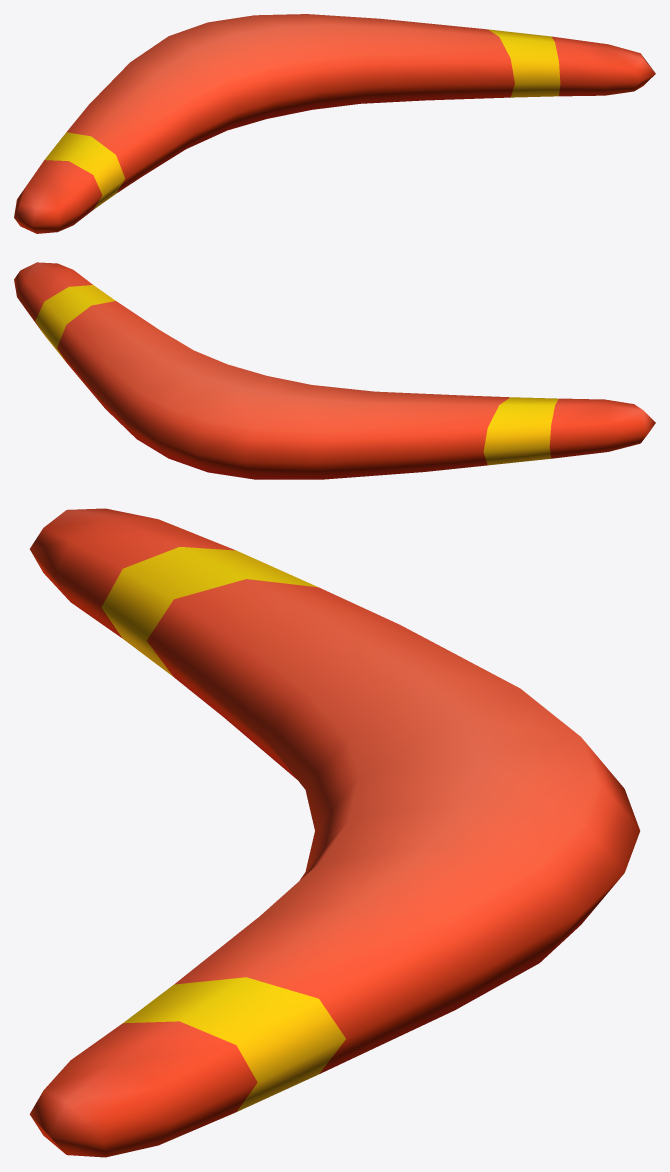
Rendered from boomerang.fbx.
3 renders of one model, top to bottom at view 1: azimuth 30°, elevation 25°; view 2: azimuth 150°, elevation 25°; view 3: azimuth 270°, elevation 25°, orthographic. The views are drawn at different scales.
Visible parts, largest first — view 1: boomerang; view 2: boomerang; view 3: boomerang.
Part boxes in pixels (x1,y1,x2,y2): boomerang: [14, 14, 655, 233]; boomerang: [14, 262, 655, 479]; boomerang: [29, 508, 640, 1157].
Size of the model in its own units: 27.19 by 3 by 11.34.
